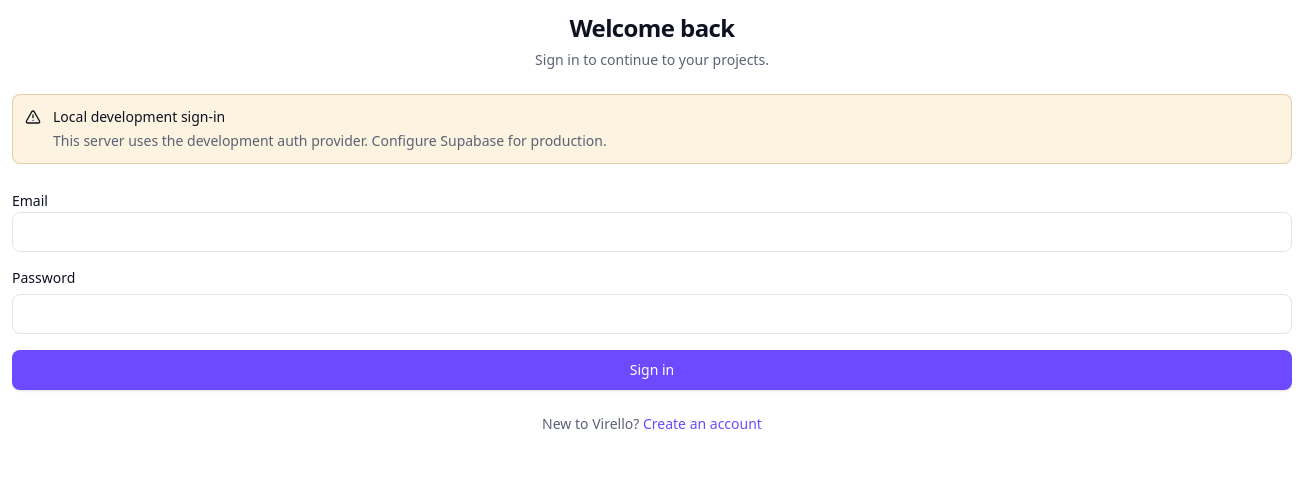
Test: AuthForm › validates input before calling the provider
Click the button "Sign in" at x=652, y=370, box [12,350,1292,390]
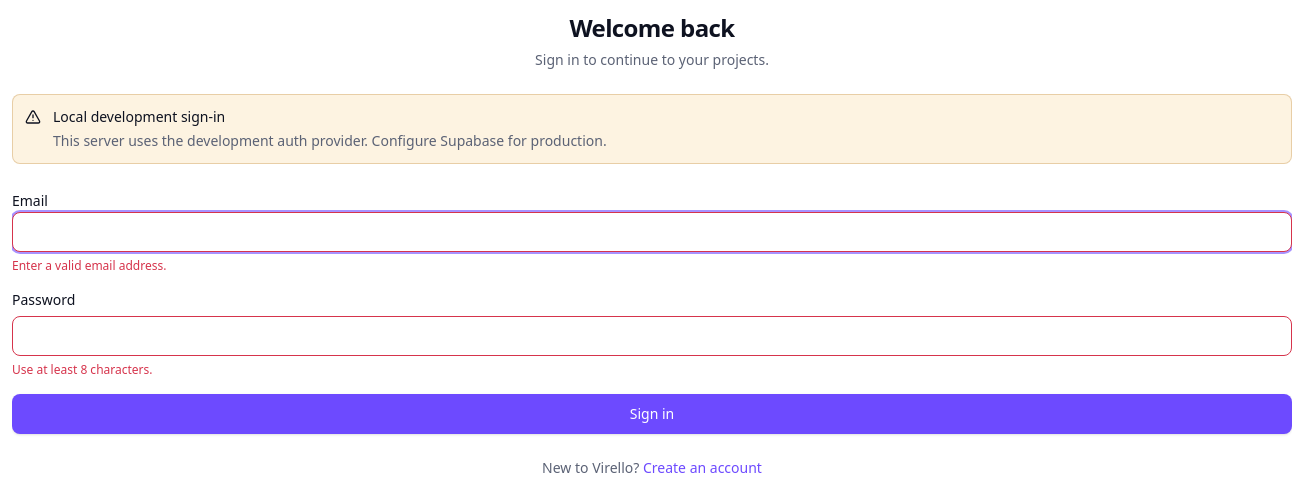
Expected: the text "Enter a valid email address." is shown, [12,257,166,274]
Expected: the text "Use at least 8 characters." is shown, [12,361,152,378]
